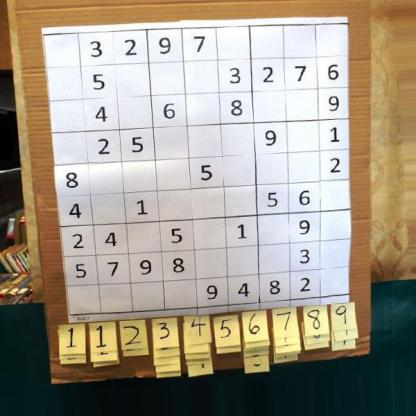sudoku: (41, 20, 360, 316)
